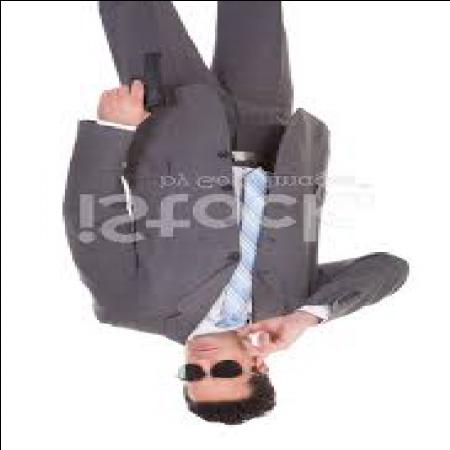Pistol: (88, 49, 164, 113)
